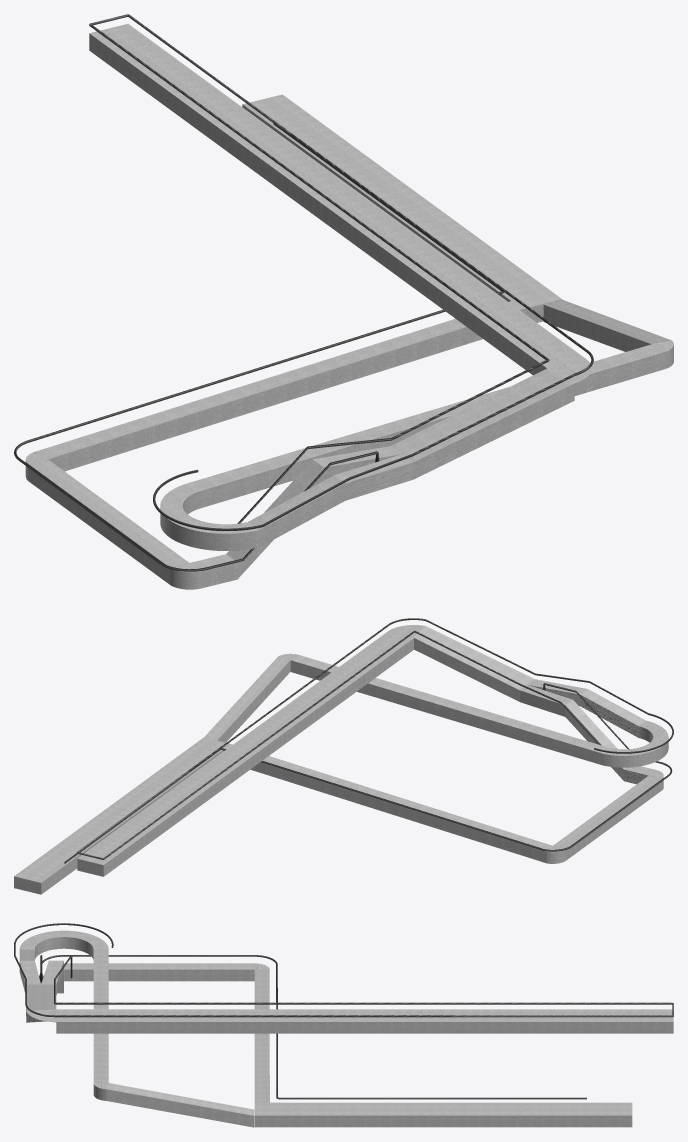
File: level_1.glb
3 renders of one model, top to bottom at view 1: azimuth 30°, elevation 25°; view 2: azimuth 150°, elevation 25°; view 3: azimuth 270°, elevation 25°, orthographic. The views are drawn at different scales.
Visible parts, largest first — view 1: platform, block, block_2; view 2: platform, block, block_2; view 3: platform, block, block_2.
Boxes of the visible parts, bbox=[...] form: platform: bbox=[25, 24, 673, 589]; block: bbox=[89, 14, 593, 530]; block_2: bbox=[14, 123, 504, 571]; platform: bbox=[14, 625, 668, 894]; block: bbox=[77, 618, 673, 859]; block_2: bbox=[64, 683, 672, 863]; platform: bbox=[19, 930, 673, 1127]; block: bbox=[14, 923, 673, 1017]; block_2: bbox=[39, 955, 586, 1099].
Bounding box in the file's own units: 440 × 108 × 685.
2 materials, 2 textured.
